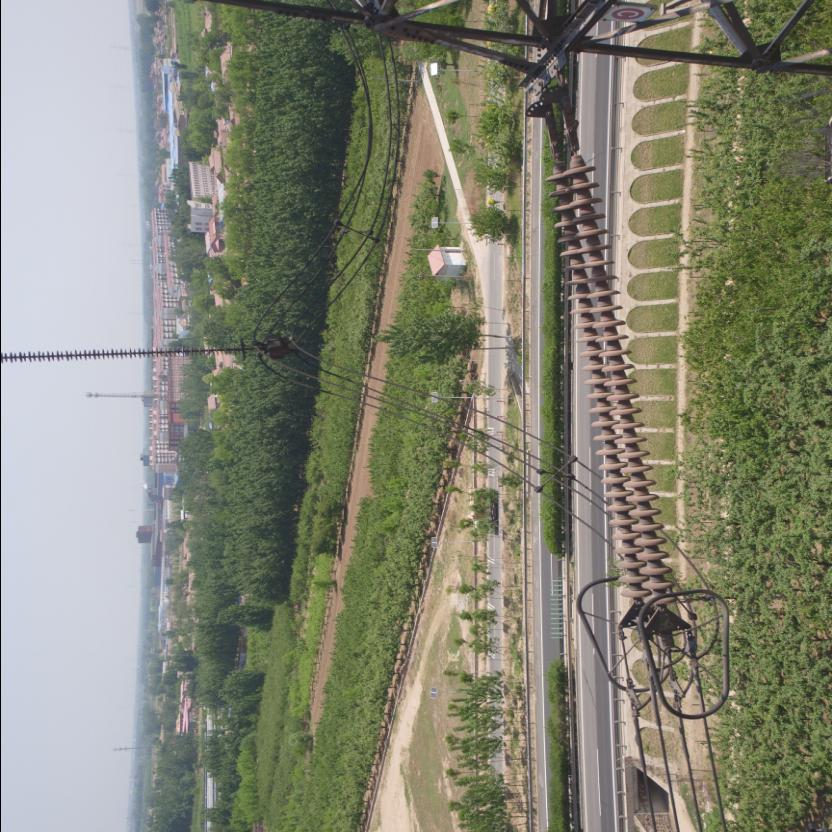insulator: (536, 127, 674, 619)
